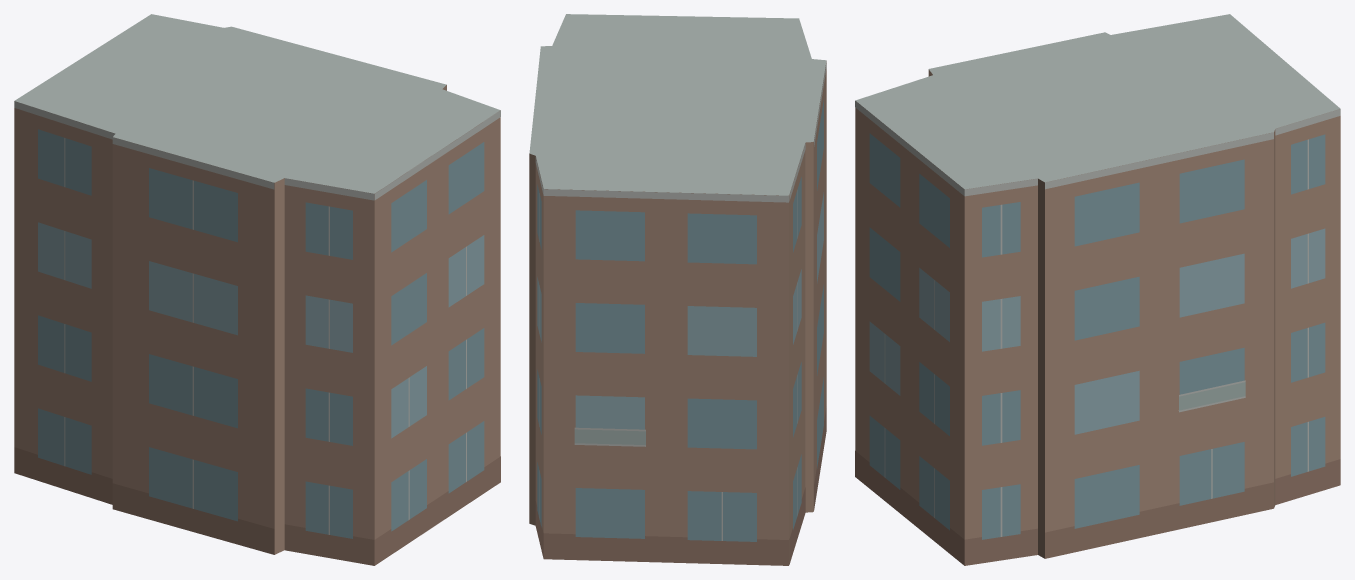
The model's file is survey-upis-32987124.glb.
The picture shows the model from 3 angles, left to right: view 1: azimuth 30°, elevation 25°; view 2: azimuth 150°, elevation 25°; view 3: azimuth 270°, elevation 25°; orthographic projection.
Visible parts, largest first — view 1: survey-upis-32987124.tmp; view 2: survey-upis-32987124.tmp; view 3: survey-upis-32987124.tmp.
Part boxes in pixels (<box>): survey-upis-32987124.tmp: <box>14,14,500,565</box>; survey-upis-32987124.tmp: <box>529,14,826,565</box>; survey-upis-32987124.tmp: <box>855,14,1340,565</box>.
Bounding box in the file's own units: 13.2 × 13.2 × 15.44.
